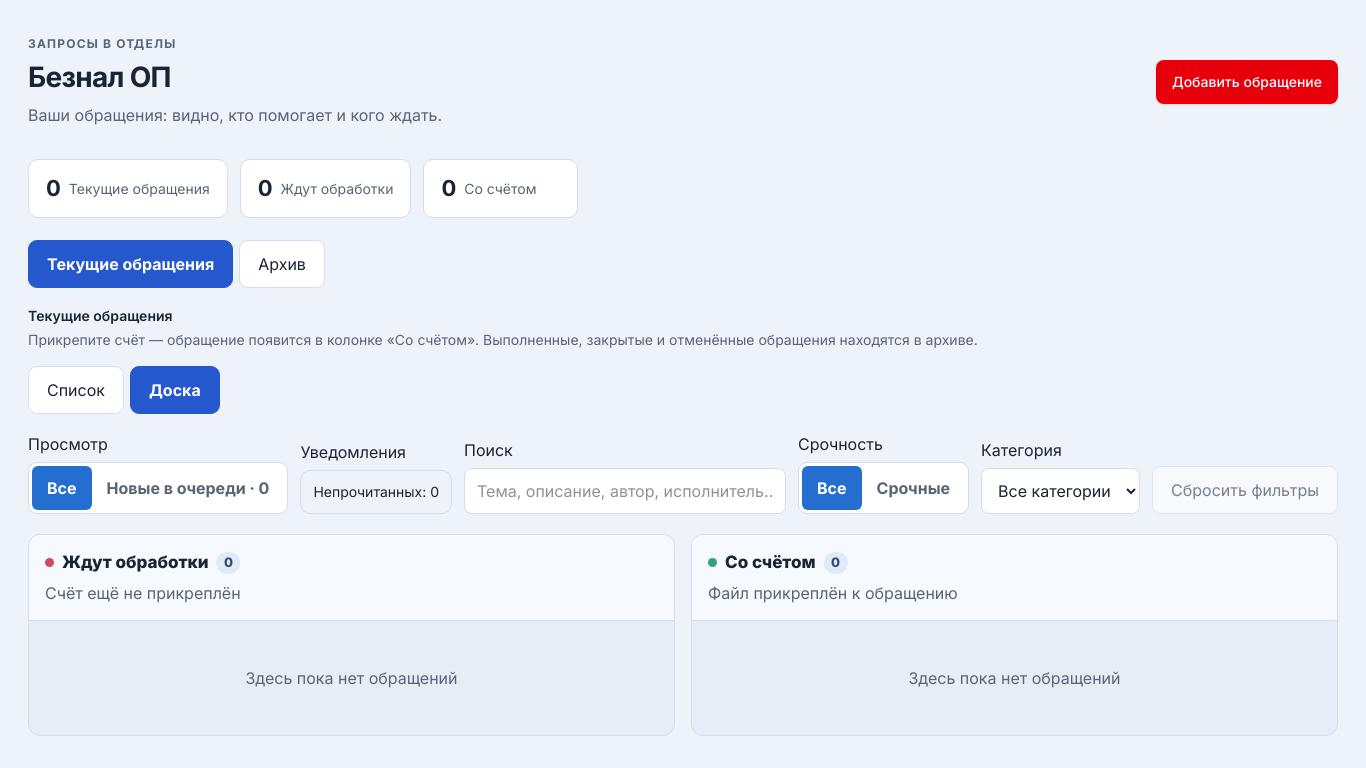
Test: applicant common board: independent scope and revocation acceptance › renders the real common empty two-stage board, metrics and filters without protected metadata or execution
Expected: the heading "Безнал ОП" is shown, [28,60,171,94]
Expected: the element named "Сводка обращений" is shown, [28,159,578,218]
Click the button "Архив": click(282, 264) [239,240,325,288]
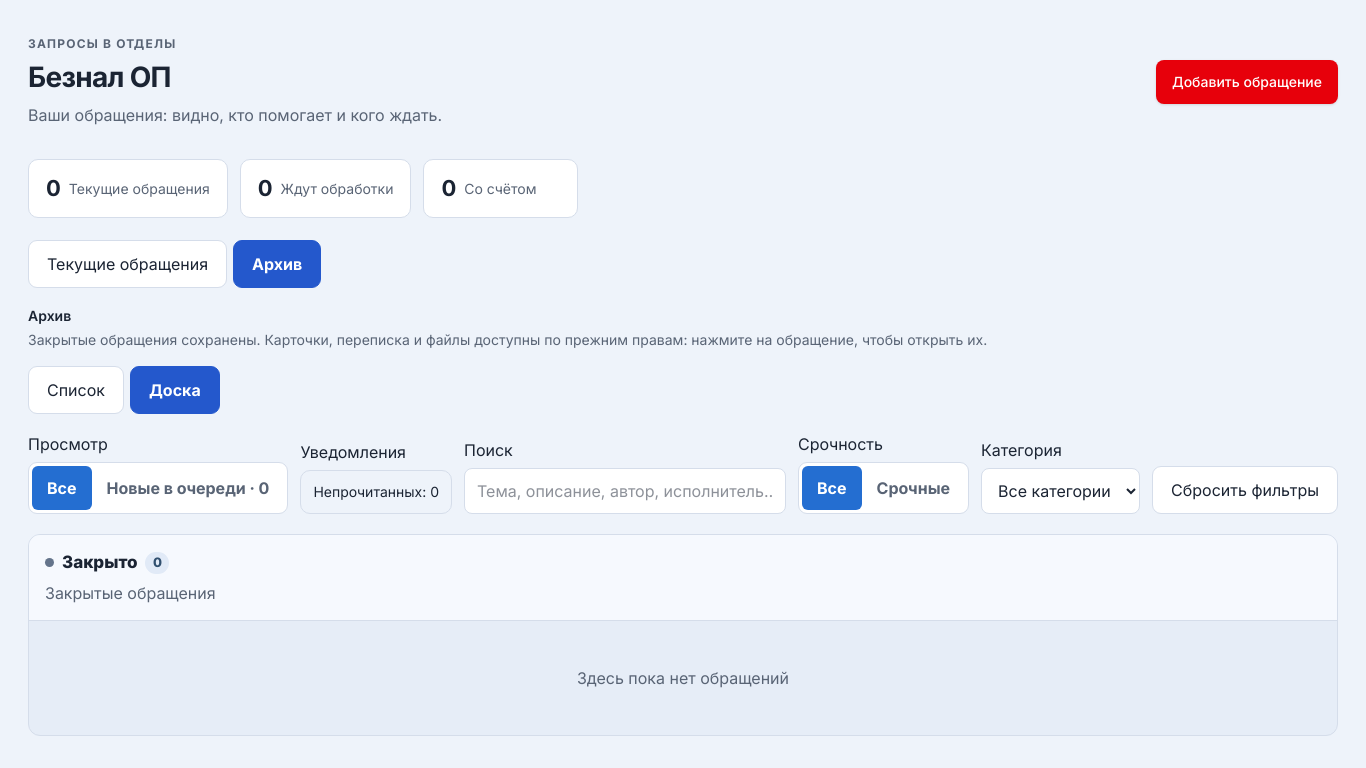
Click the button "Список": click(76, 390) [28,366,124,414]
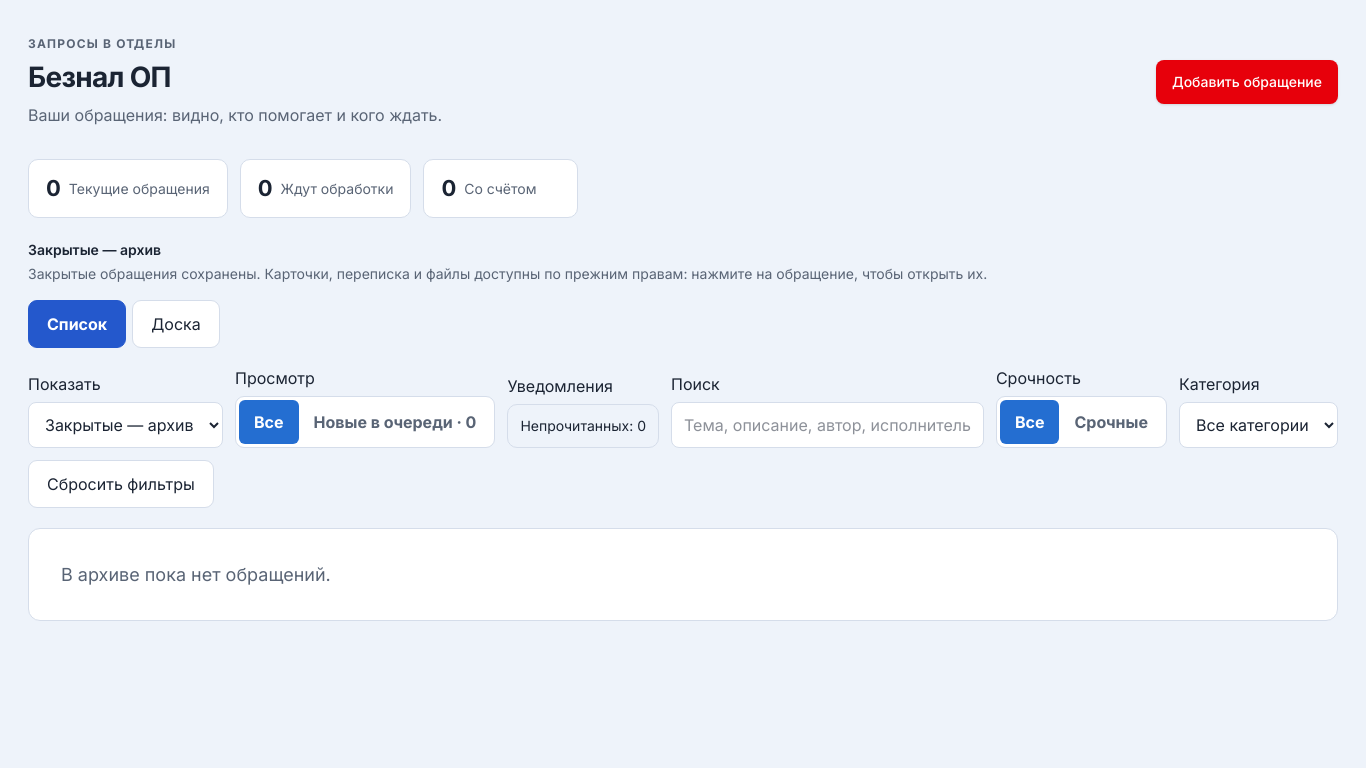
Result: the text "В архиве пока нет обращений." is shown at [61,564,331,585]
